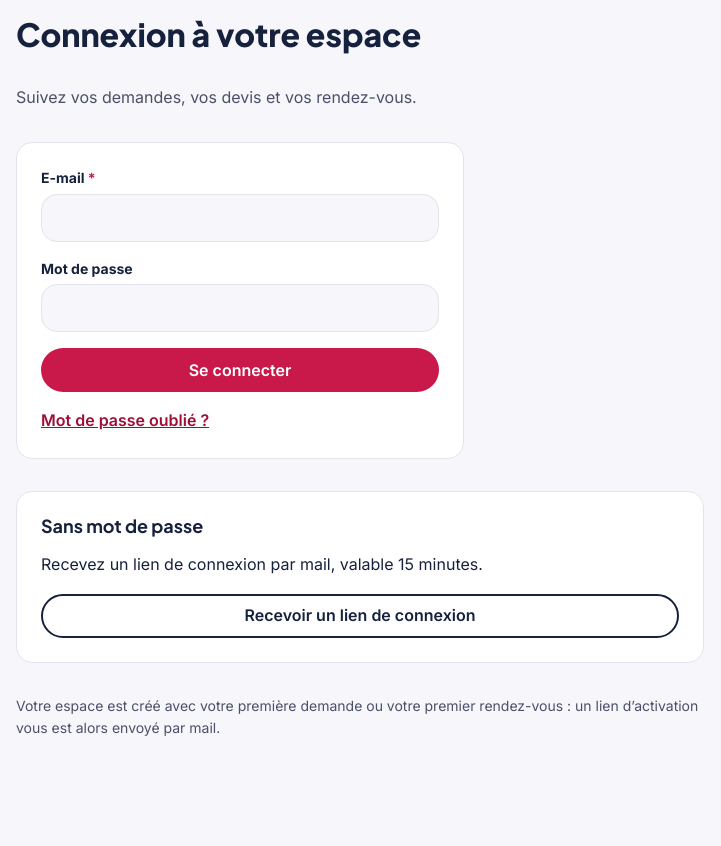
Test: Connexion › connecte avec e-mail et mot de passe, cookie compris, puis ouvre l’espace
Type "marie@exemple.fr" into the field labelled "E-mail *".
click(240, 218); type("marie@exemple.fr")  # box left=41, top=194, right=439, bottom=242
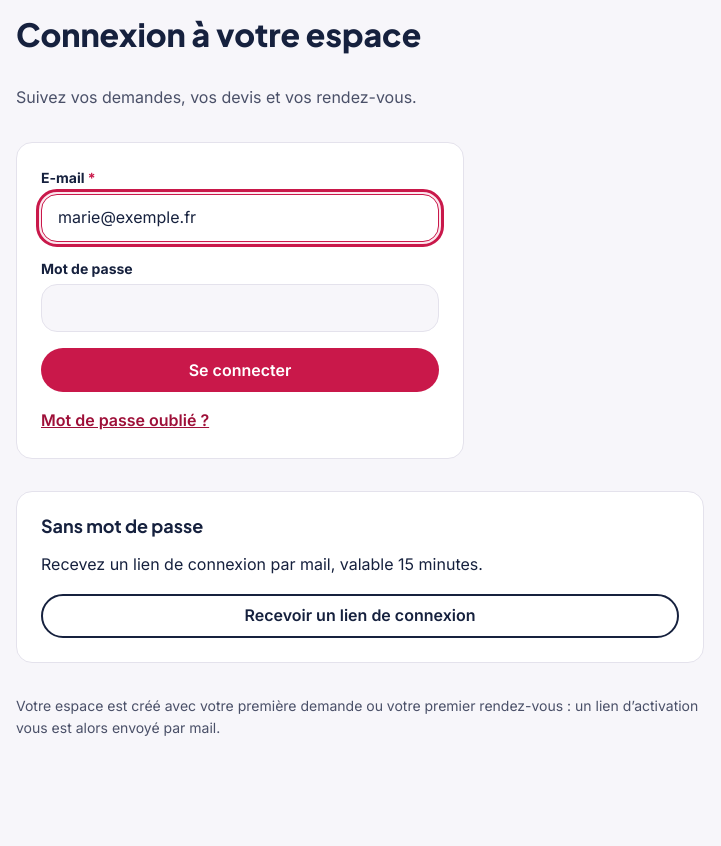
Type "une phrase de passe" into the password field labelled "Mot de passe".
click(240, 308); type("une phrase de passe")  # box left=41, top=284, right=439, bottom=332
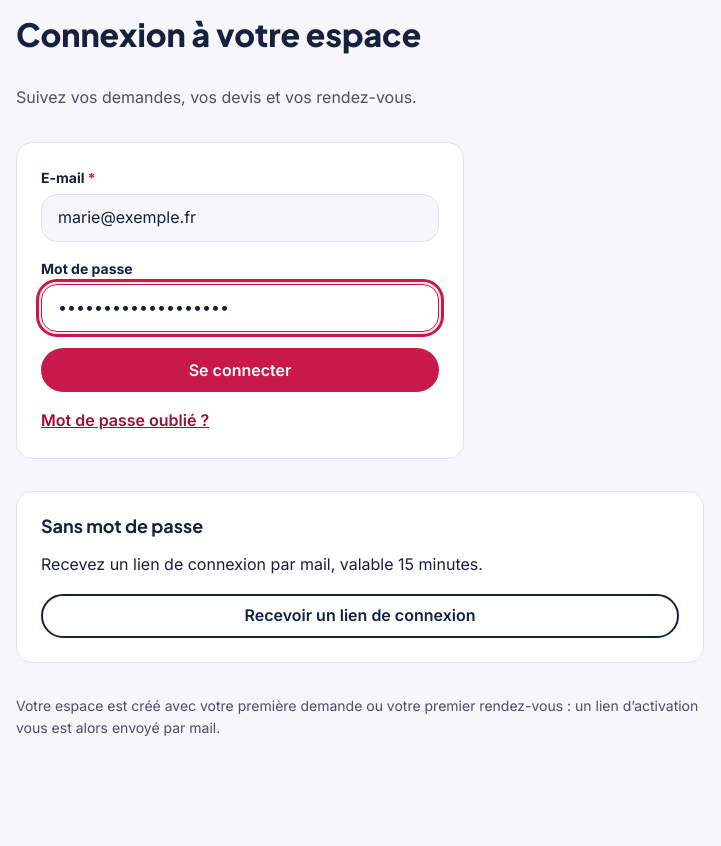
Click the button "Se connecter".
click(240, 370)  # box left=41, top=348, right=439, bottom=392
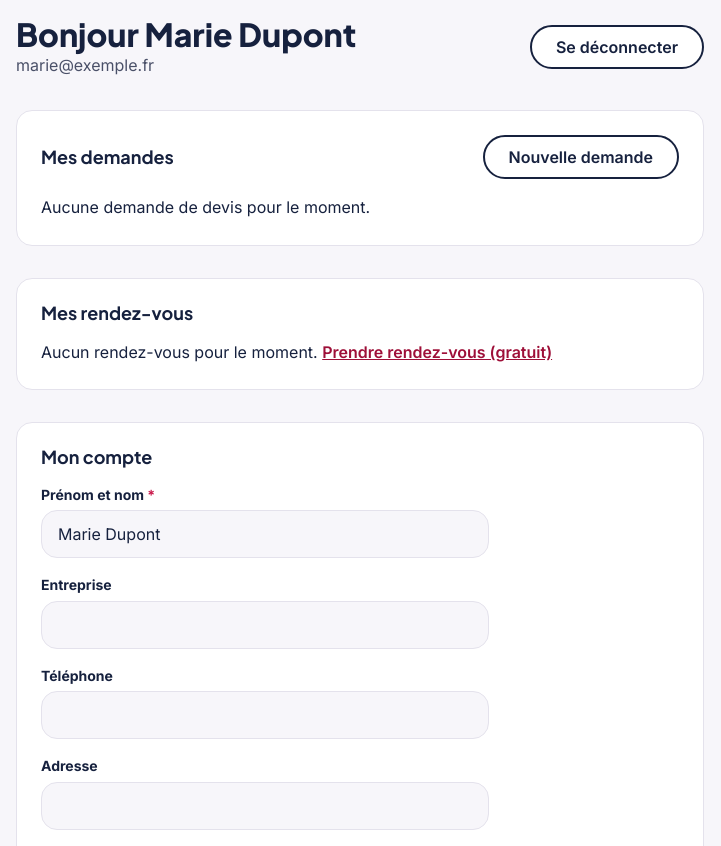
Check: the heading "Bonjour Marie Dupont" is shown, box left=16, top=16, right=356, bottom=53
